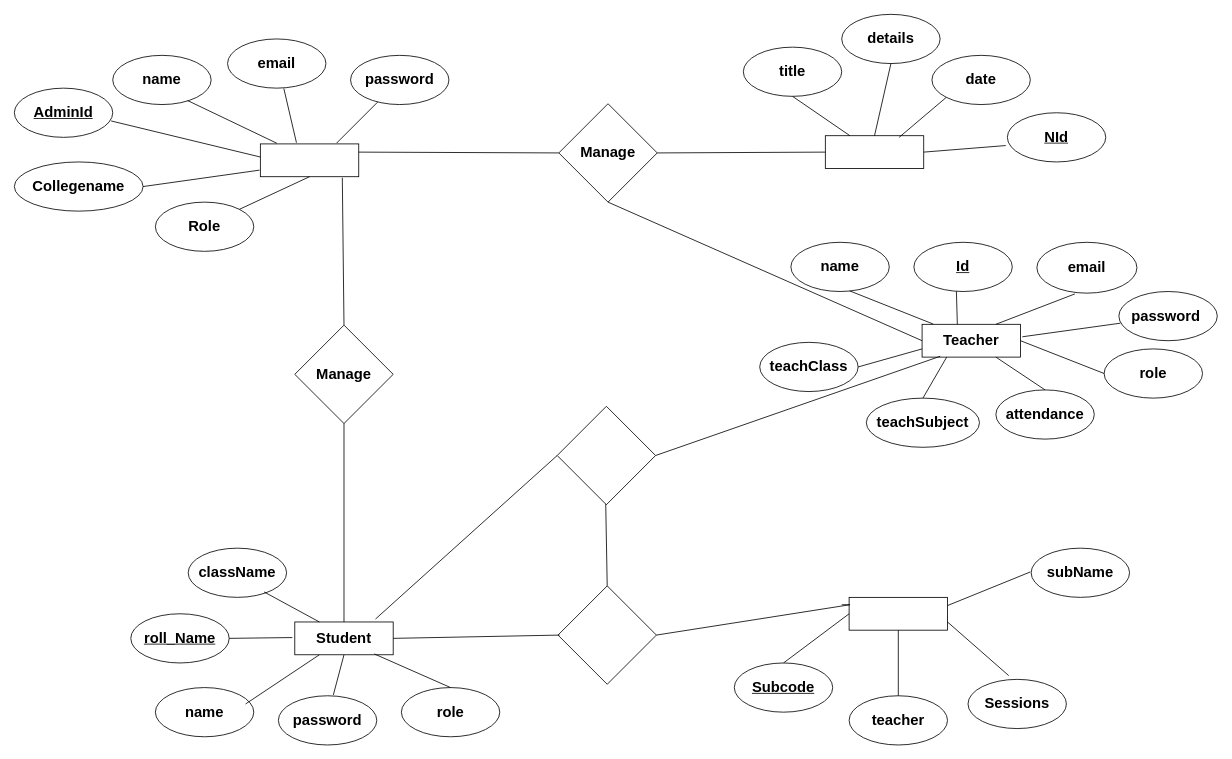
The diagram is 1232 pixels wide and 759 high, and some of its shapes have lost their labels. The shapes that lost their labels are listed below. From the top down, each one's centre as x and y in pixels, then its label:
At (309,160): "Admin".
At (874,152): "notice".
At (606,455): "teach".
At (898,613): "Subject".
At (606,634): "read".
